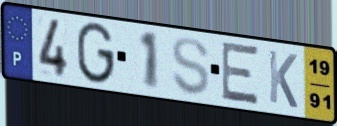1: (136, 30, 160, 91)
4: (36, 16, 70, 80)
E: (220, 40, 261, 108)
G: (75, 20, 116, 87)
K: (267, 48, 300, 111)
S: (170, 35, 212, 98)
